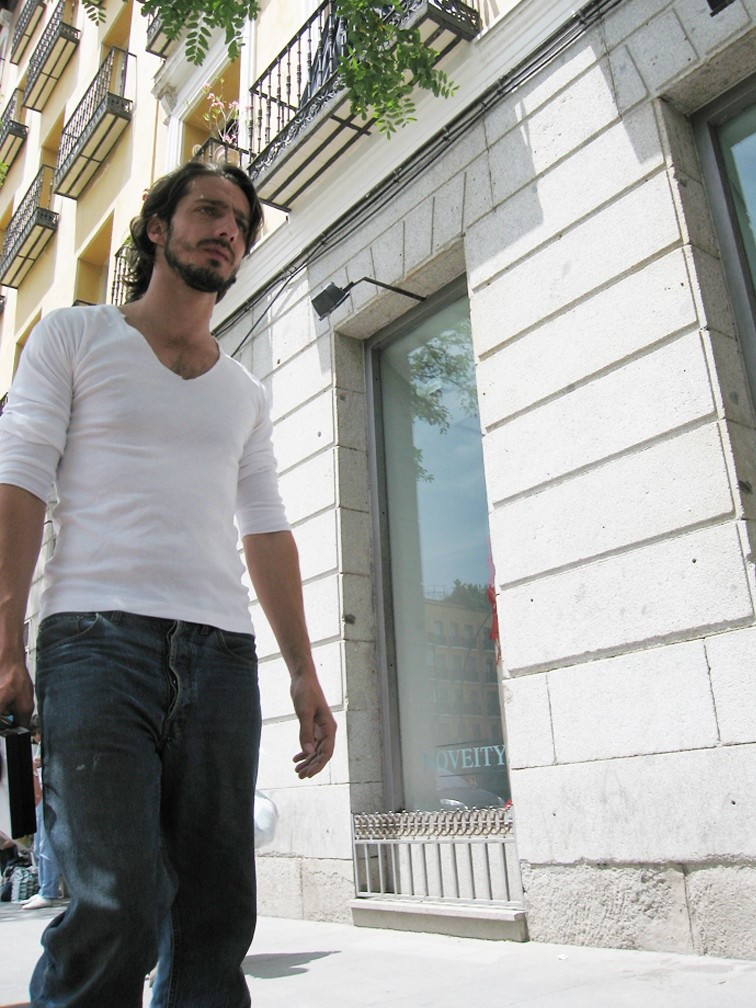face_no_mask: (131, 161, 262, 292)
